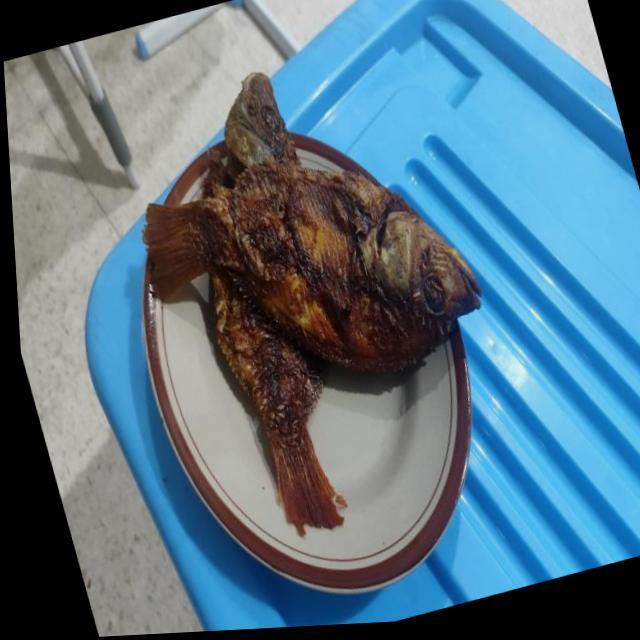ikan_mujair: (143, 159, 480, 370), (202, 69, 342, 528)
